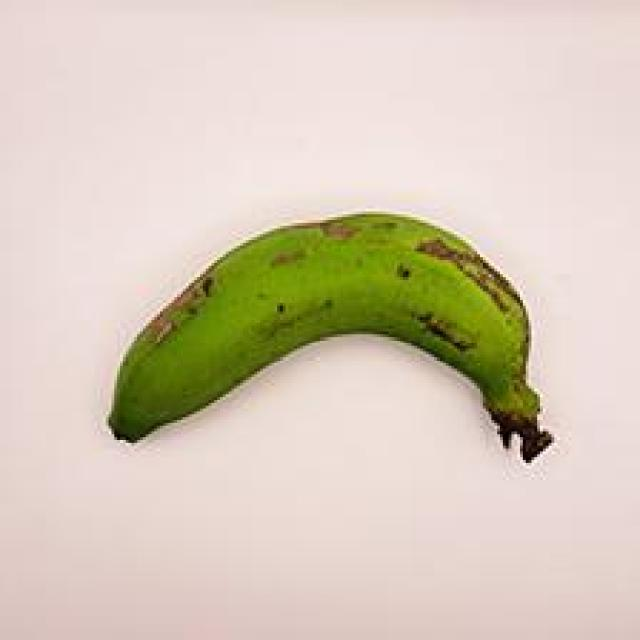Raw: (96, 186, 567, 511)
